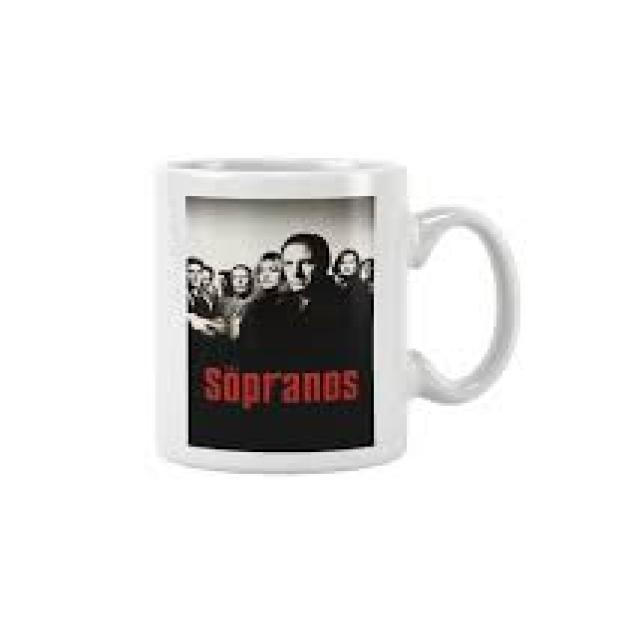taza: (154, 154, 517, 473)
